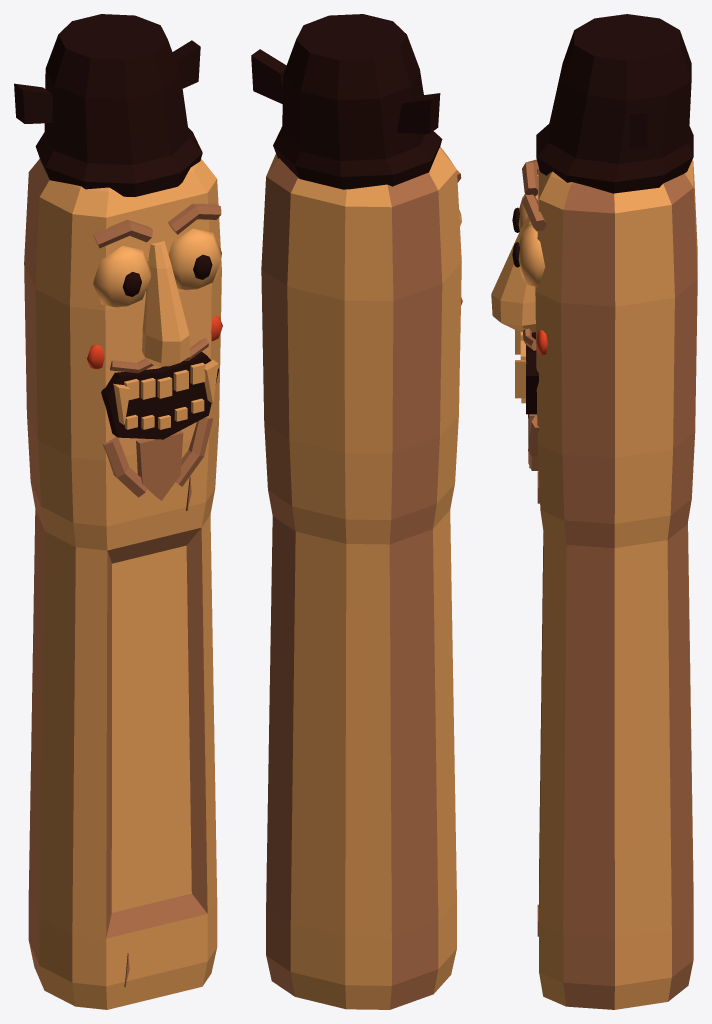
File: jangseungHeaven.glb
3 renders of one model, left to right at view 1: azimuth 30°, elevation 25°; view 2: azimuth 150°, elevation 25°; view 3: azimuth 270°, elevation 25°, orthographic.
Visible parts, largest first — view 1: jangseungHeaven; view 2: jangseungHeaven; view 3: jangseungHeaven.
Boxes of the visible parts, bbox=[...] form: jangseungHeaven: bbox=[14, 14, 222, 1009]; jangseungHeaven: bbox=[251, 14, 462, 1009]; jangseungHeaven: bbox=[491, 14, 697, 1009].
Size of the model in its own units: 0.86 by 4.3 by 0.86.
Materials: 1 (1 with a texture image).
